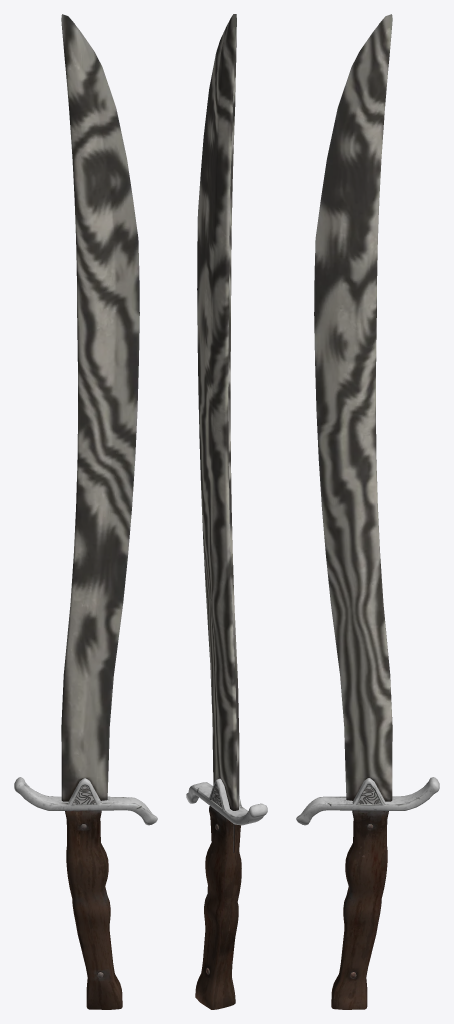
Rendered from sablya-bulat.glb.
3 renders of one model, left to right at view 1: azimuth 90°, elevation 25°; view 2: azimuth 210°, elevation 25°; view 3: azimuth 270°, elevation 25°, orthographic.
Visible parts, largest first — view 1: wooden_handle_saber; view 2: wooden_handle_saber; view 3: wooden_handle_saber.
Boxes of the visible parts, x1,y1,x2,y2 form: wooden_handle_saber: (14,14,157,1009); wooden_handle_saber: (186,14,267,1009); wooden_handle_saber: (296,14,439,1009).
Bounding box in the file's own units: 0.0257 × 0.9355 × 0.1228.
1 material, 1 textured.
